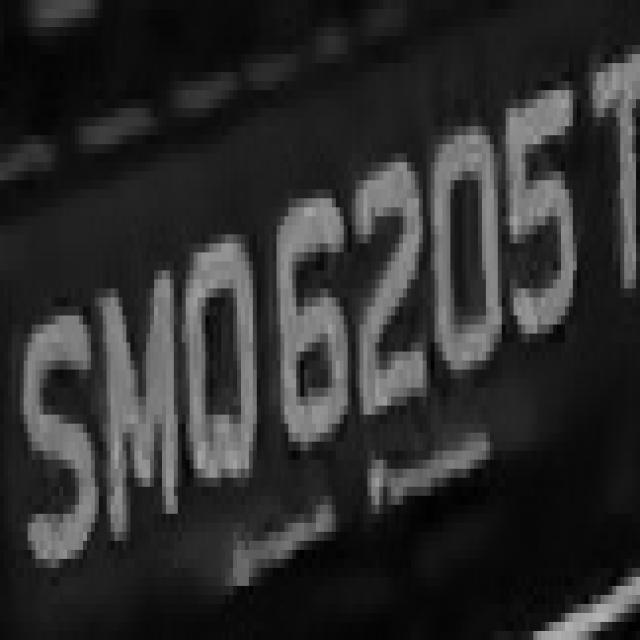0: (415, 135, 521, 379)
2: (336, 135, 442, 442)
5: (498, 72, 581, 361)
6: (260, 153, 356, 469)
M: (106, 243, 186, 541)
Q: (178, 225, 264, 532)
S: (16, 279, 103, 622)
